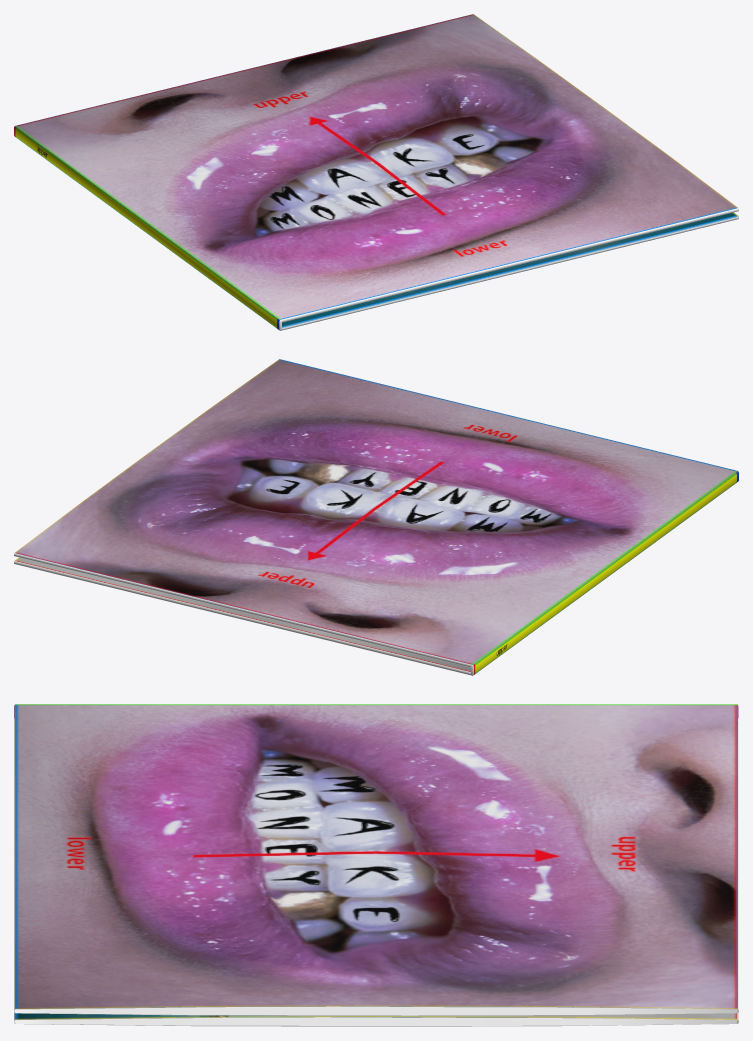
File: sleeve_10_gatefold_AxisNoMove.dae
The picture shows the model from 3 angles, top to bottom: view 1: azimuth 30°, elevation 25°; view 2: azimuth 150°, elevation 25°; view 3: azimuth 270°, elevation 25°; orthographic projection. The views are drawn at different scales.
Parts seen in each view (by area): view 1: Front, Back, Spine; view 2: Front, Back, Spine; view 3: Front, Back.
Part boxes in pixels (bbox=[...]): Front: bbox=[15, 14, 738, 322]; Back: bbox=[281, 212, 738, 330]; Spine: bbox=[14, 126, 281, 330]; Front: bbox=[14, 359, 737, 667]; Back: bbox=[14, 557, 471, 675]; Spine: bbox=[471, 471, 738, 675]; Front: bbox=[14, 704, 738, 1015]; Back: bbox=[14, 1013, 738, 1026].
Size of the model in its own units: 26.44 by 0.9986 by 26.51.
3 materials, 3 textured.
